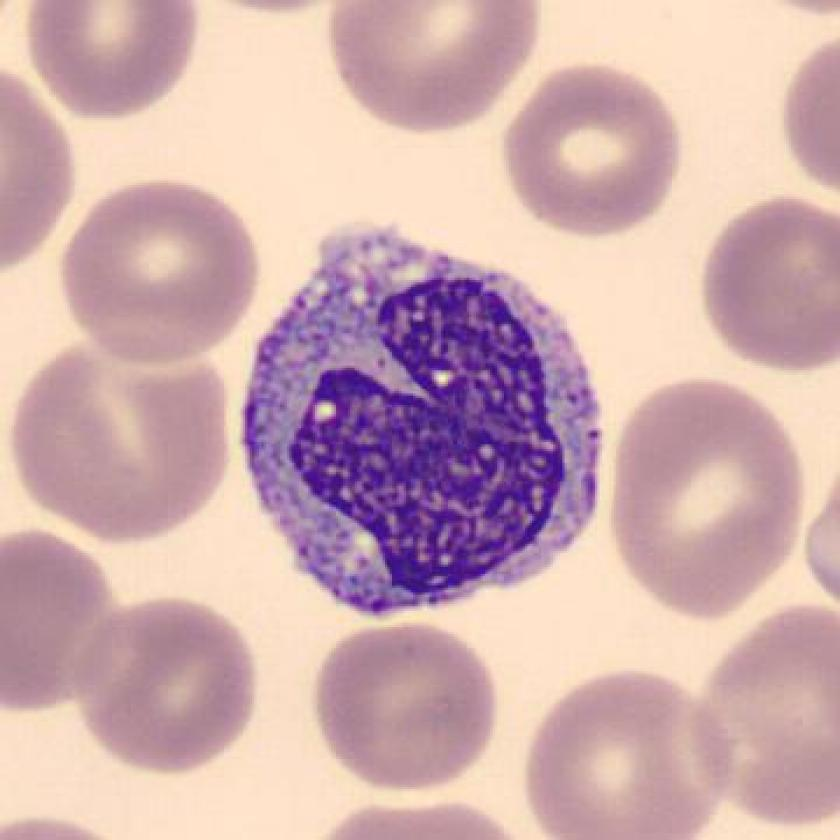monocyte: (225, 207, 617, 635)
